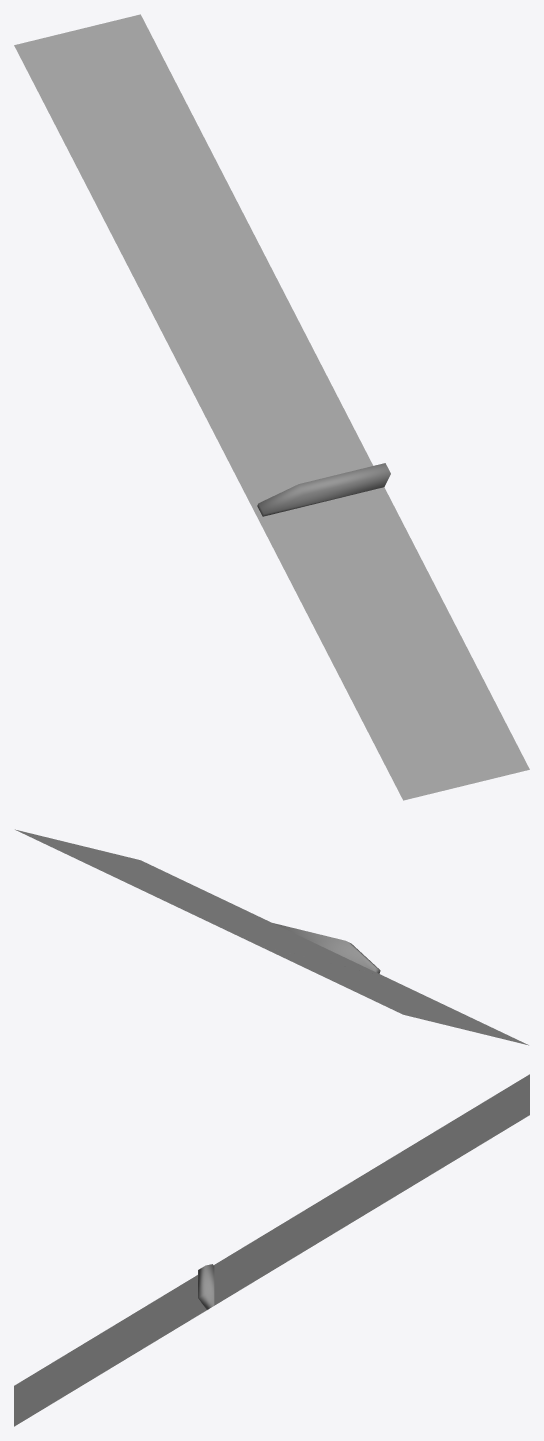
File: SW_ENV_Escalator_4Step_Connector.fbx
The picture shows the model from 3 angles, top to bottom: view 1: azimuth 30°, elevation 25°; view 2: azimuth 150°, elevation 25°; view 3: azimuth 270°, elevation 25°; orthographic projection. The views are drawn at different scales.
Visible parts, largest first — view 1: SW_ENV_Escalator_4Step_Connector; view 2: SW_ENV_Escalator_4Step_Connector; view 3: SW_ENV_Escalator_4Step_Connector.
Boxes of the visible parts, left/top/right/bottom form: SW_ENV_Escalator_4Step_Connector: left=14, top=14, right=529, bottom=800; SW_ENV_Escalator_4Step_Connector: left=15, top=829, right=528, bottom=1045; SW_ENV_Escalator_4Step_Connector: left=14, top=1074, right=529, bottom=1426.
Size of the model in its own units: 0.2255 by 0.8 by 1.2.
